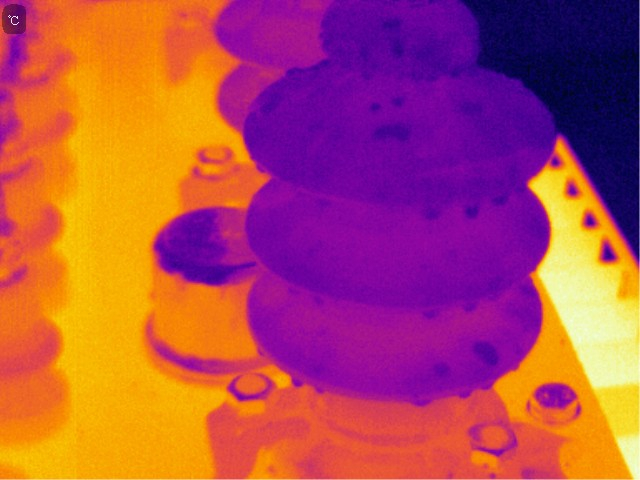Water: (417, 42, 464, 85), (376, 15, 409, 61), (282, 53, 335, 81), (368, 120, 416, 145), (468, 338, 504, 369), (458, 99, 486, 118), (430, 358, 453, 375), (355, 40, 374, 60), (419, 204, 440, 222), (462, 201, 481, 220), (422, 304, 440, 323), (491, 191, 509, 209), (409, 393, 430, 408), (464, 301, 482, 317), (390, 93, 407, 109), (267, 92, 279, 114), (289, 372, 305, 388), (455, 386, 473, 400), (361, 68, 378, 82), (366, 99, 384, 112), (313, 385, 328, 399), (254, 158, 265, 177), (256, 343, 268, 360), (478, 380, 497, 389)
